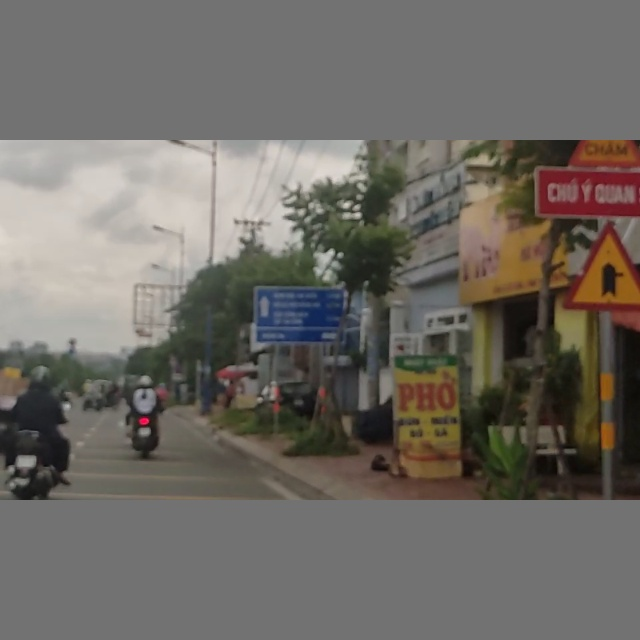W.207: (561, 225, 640, 314)
